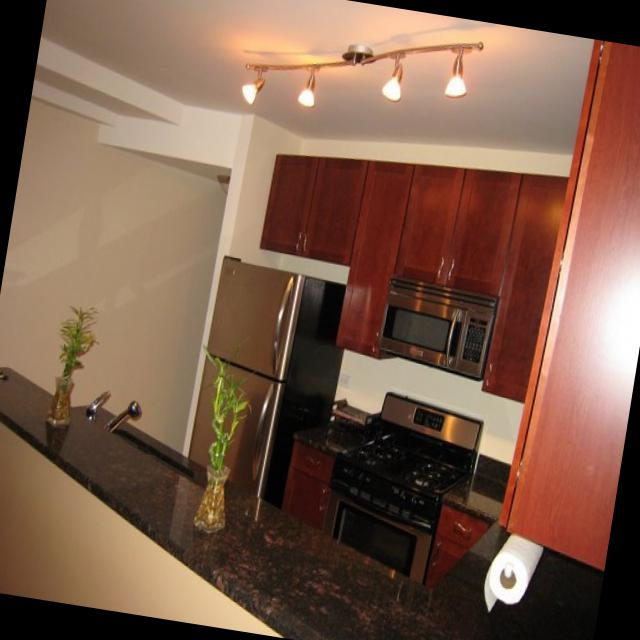2036: (0, 356, 600, 640)
extractor hood: (374, 272, 499, 384)
fridge crop: (186, 249, 342, 503)
kitchen utensils: (257, 153, 568, 406)
lamp crop: (239, 36, 489, 120)
paper towel dispenser: (479, 535, 542, 619)
plant -x: (37, 294, 108, 429)
stove burner: (334, 394, 478, 501)
